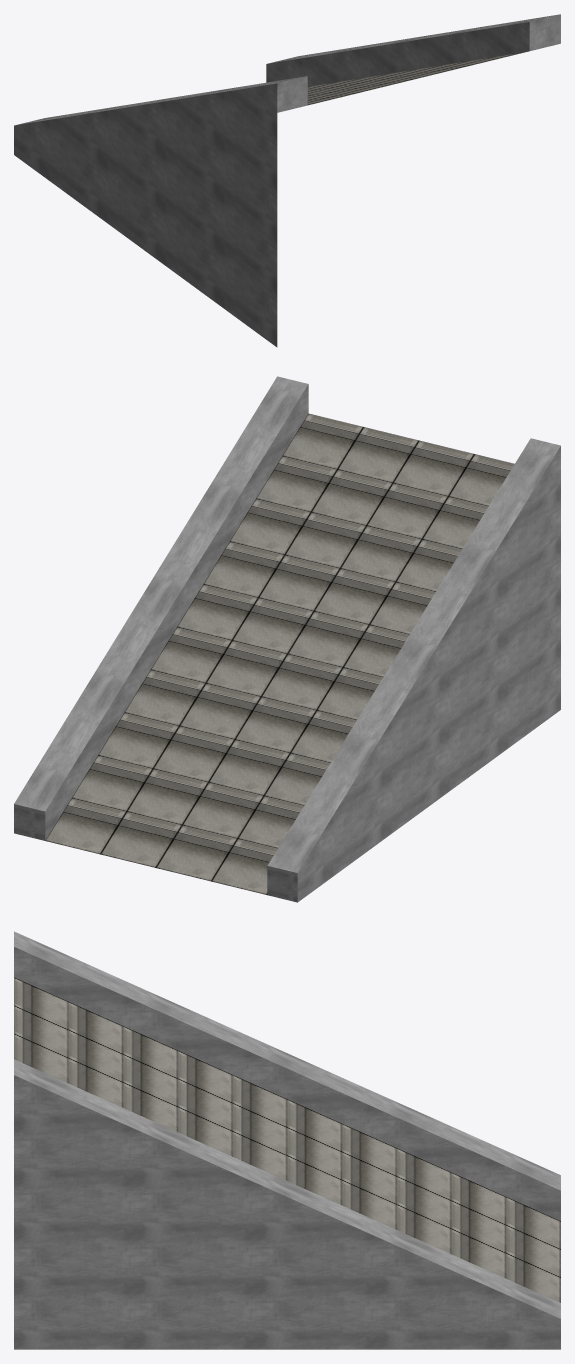
File: AMB_HOME_KAIDAN.glb
The picture shows the model from 3 angles, top to bottom: view 1: azimuth 30°, elevation 25°; view 2: azimuth 150°, elevation 25°; view 3: azimuth 270°, elevation 25°; orthographic projection. The views are drawn at different scales.
Parts seen in each view (by area): view 1: KAIDAN; view 2: KAIDAN; view 3: KAIDAN.
Boxes of the visible parts, box(x1,y1,x2,y2) form: KAIDAN: box(14, 14, 560, 347); KAIDAN: box(14, 376, 560, 902); KAIDAN: box(14, 931, 560, 1349).
Bounding box in the file's own units: 6.32 × 5.63 × 10.16.
2 materials, 2 textured.
